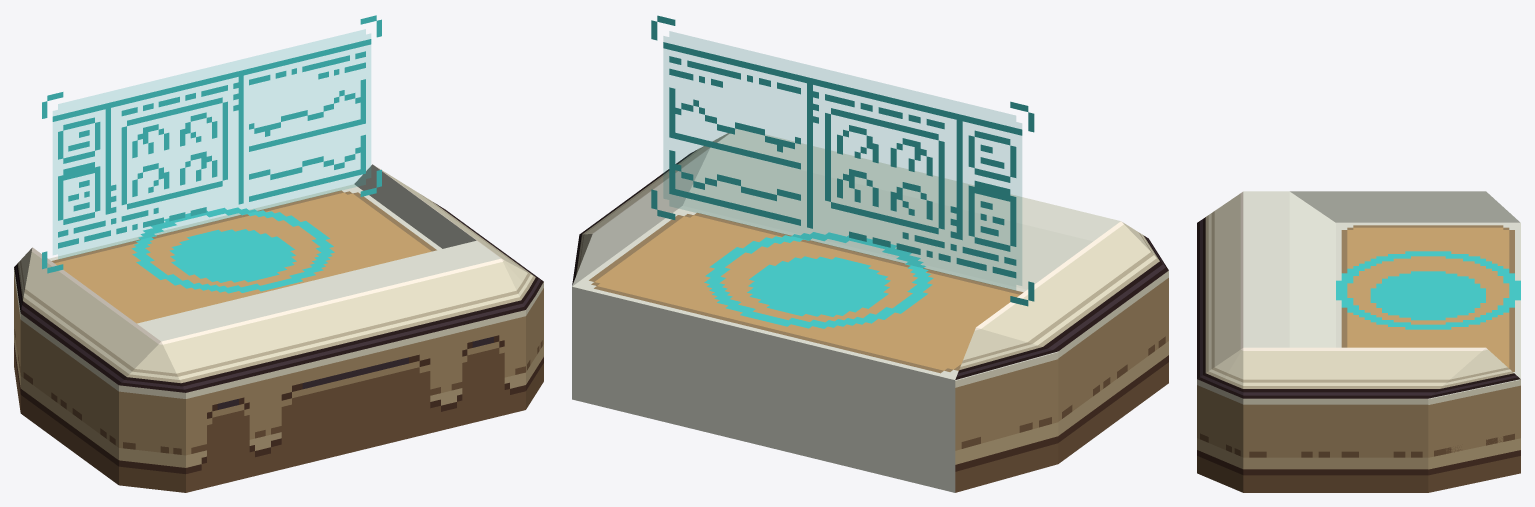
File: aster-desk.gltf
3 renders of one model, left to right at view 1: azimuth 30°, elevation 25°; view 2: azimuth 150°, elevation 25°; view 3: azimuth 270°, elevation 25°, orthographic. The views are drawn at different scales.
Bounding box in the file's own units: 5 × 3.56 × 3.5.
Materials: 1 (1 with a texture image).
